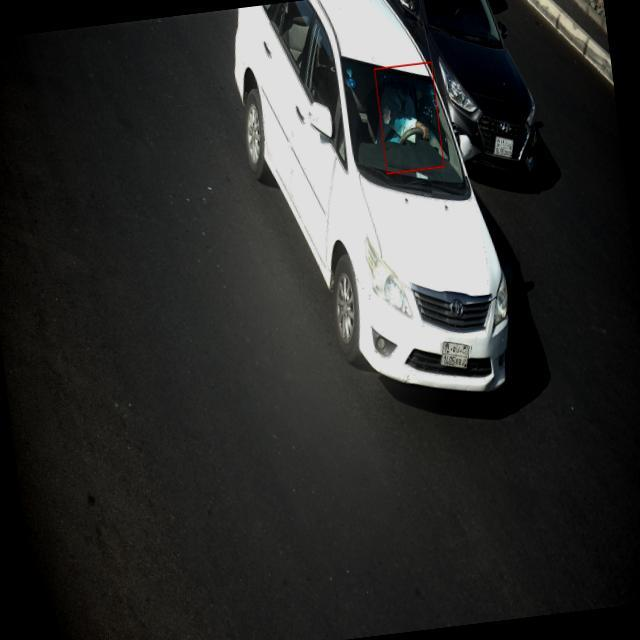windshield: (337, 56, 471, 203)
